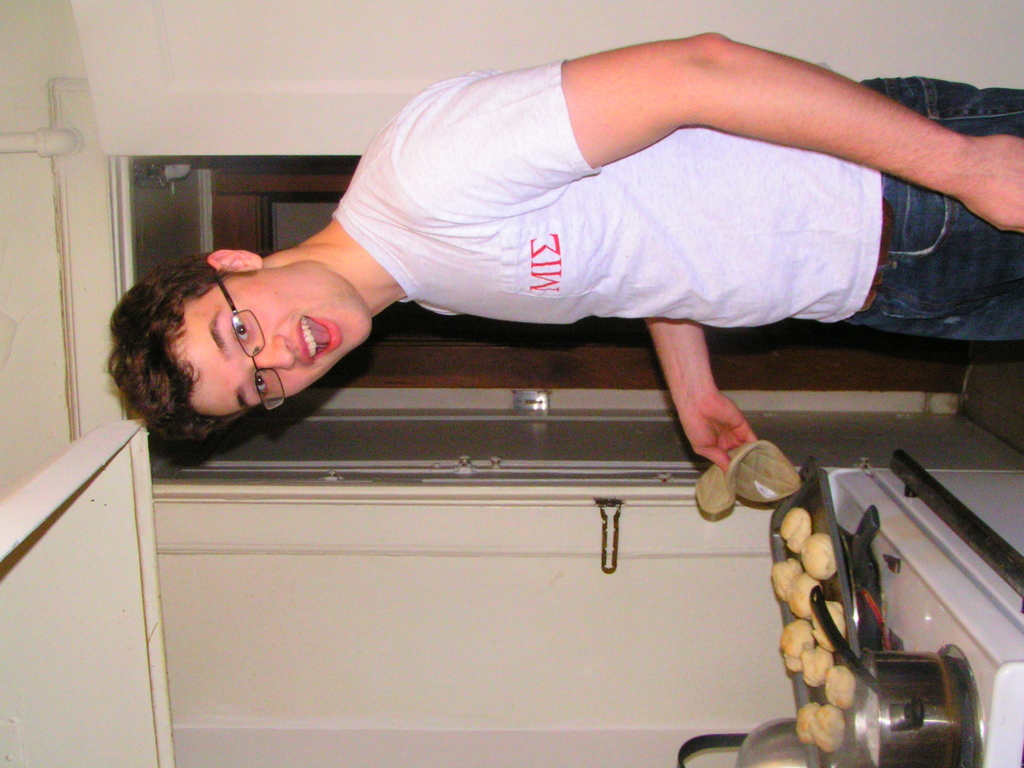Person: (95, 32, 1023, 470)
